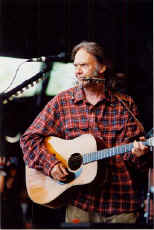guitar: (24, 130, 154, 211)
